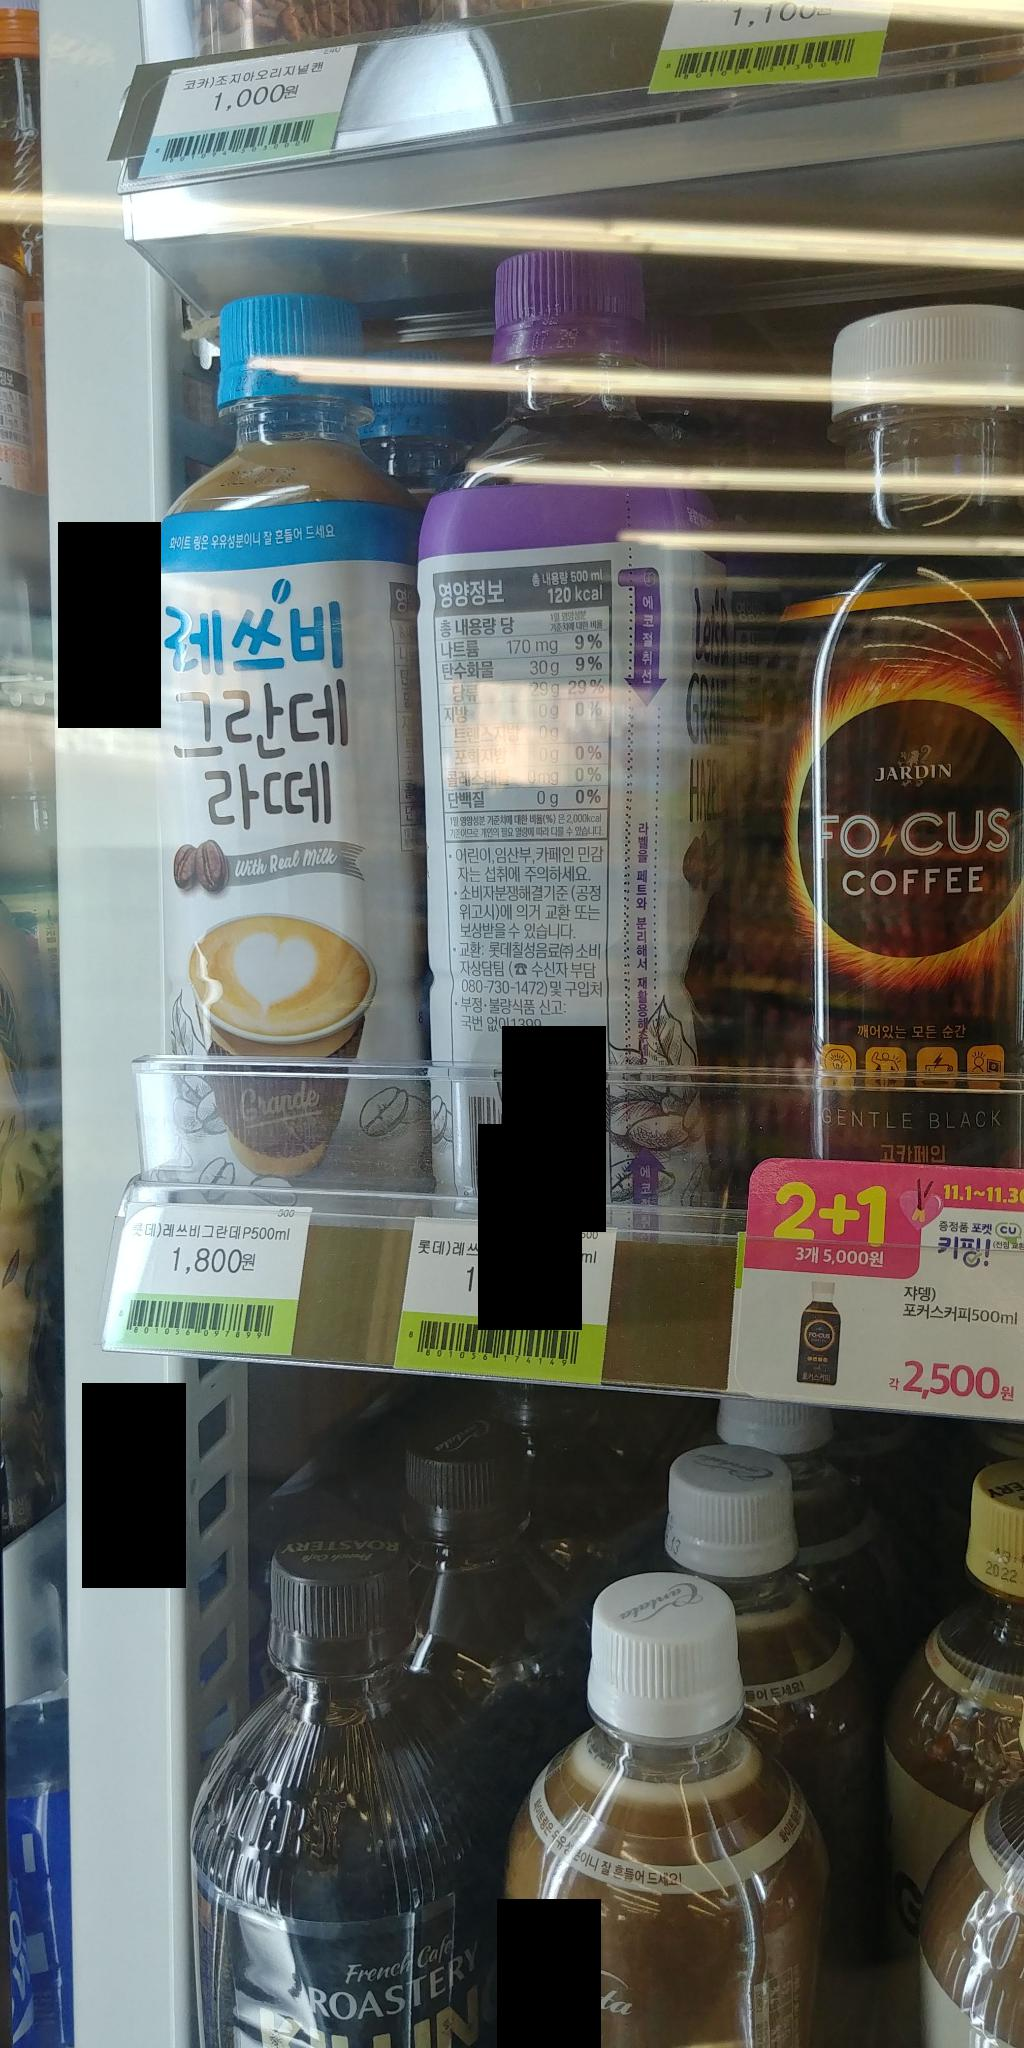letsbe_grande_hazelnut: (410, 246, 731, 1199)
